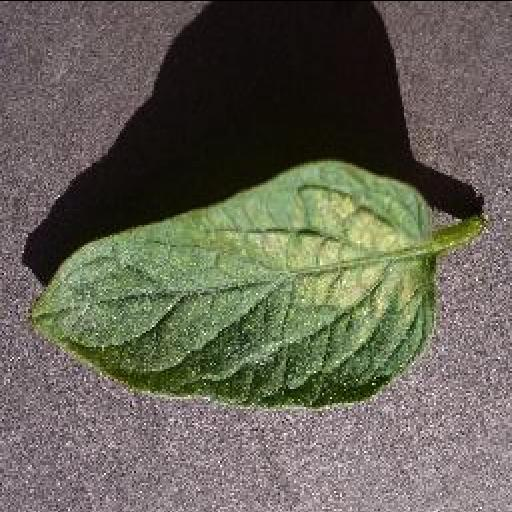disease_tomato: (25, 156, 439, 412)
